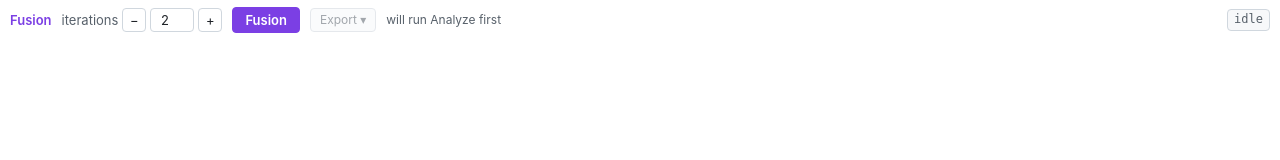
Test: FusionPane: running a stream › auto-run path ending in error{nothing_to_fuse}: notice shown, conversation refetched, no crash
Click the button with test id "fusion-run" at x=266, y=20, box [232,7,300,33]
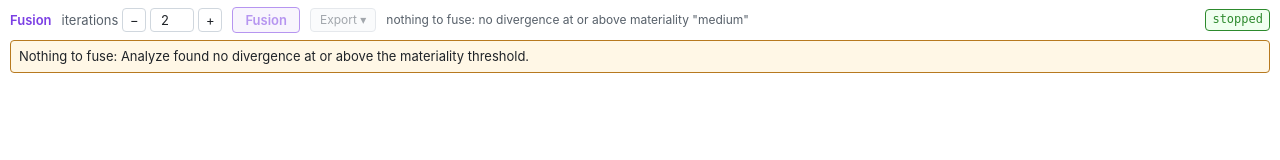
Check: the text with test id "fusion-notice" is shown, box [10,40,1270,73]
Check: the text with test id "fusion-notice" shows "Nothing to fuse", box [19,48,529,64]
Check: the button with test id "fusion-run" is disabled, box [232,7,300,33]
